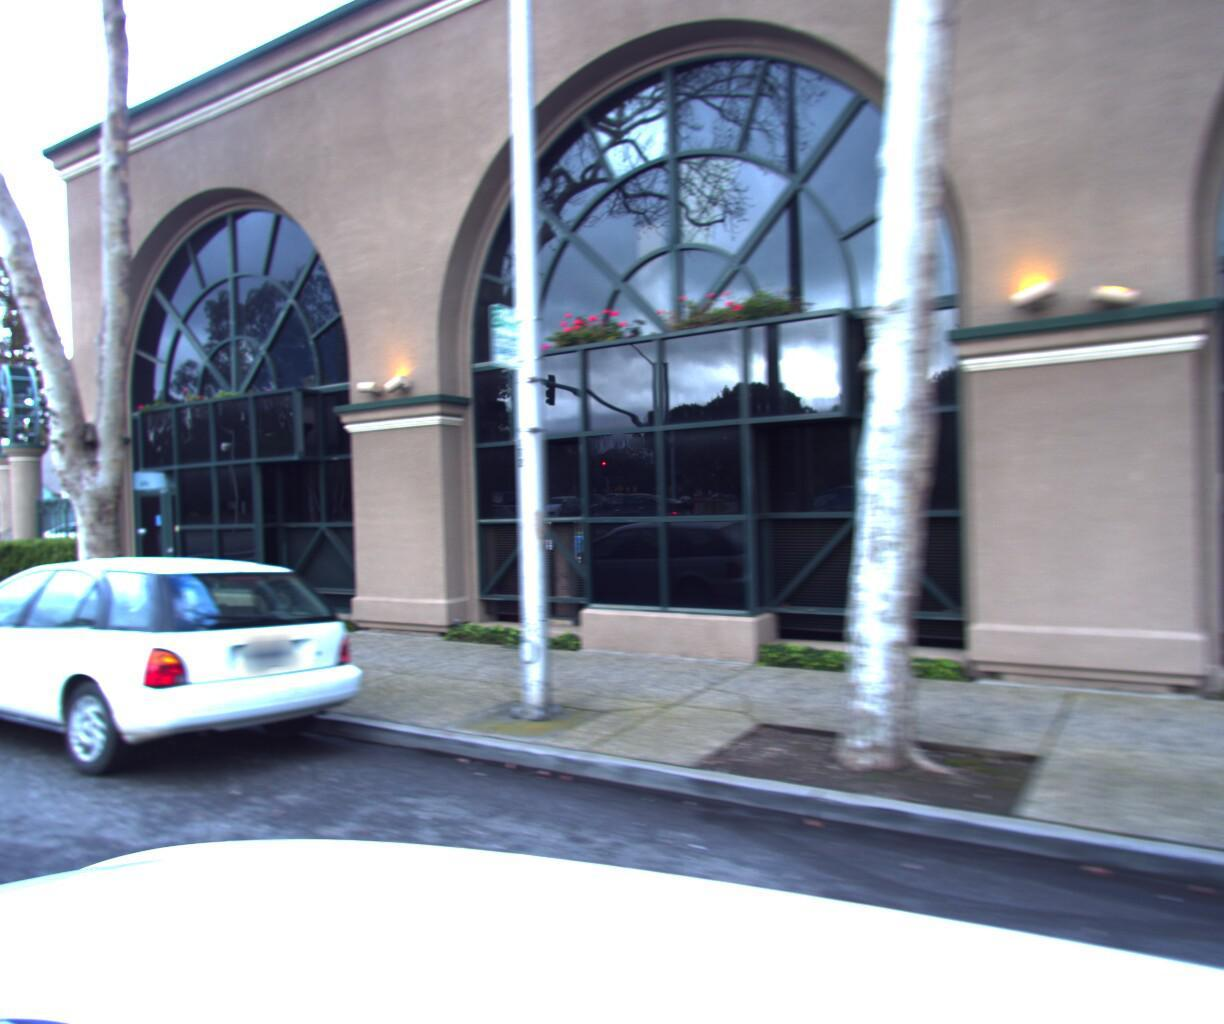car: (0, 534, 363, 807), (0, 524, 19, 582)
